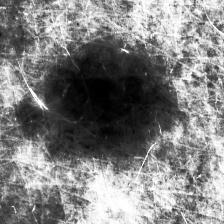Benign Marking or Mole: (48, 61, 174, 145)
